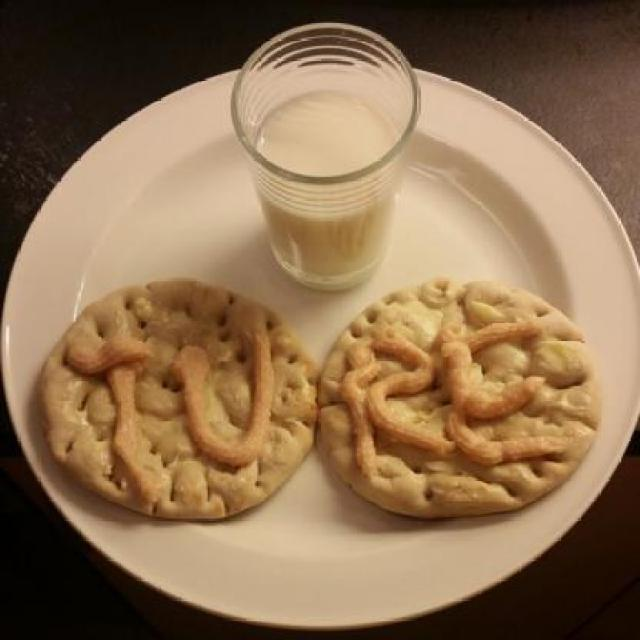Milk: (240, 54, 418, 280)
